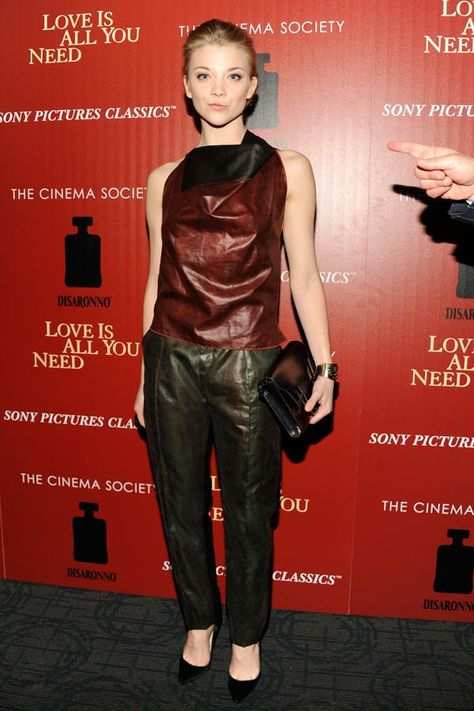person: (103, 15, 355, 697)
